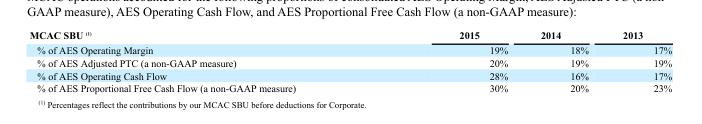table: (28, 29, 671, 93)
table column: (28, 29, 376, 93), (376, 29, 523, 93), (523, 29, 605, 93), (605, 29, 671, 93)
table column header: (28, 29, 671, 42)
table row: (28, 42, 671, 56), (28, 29, 671, 42), (28, 68, 671, 81), (28, 56, 671, 68), (28, 81, 671, 93)
